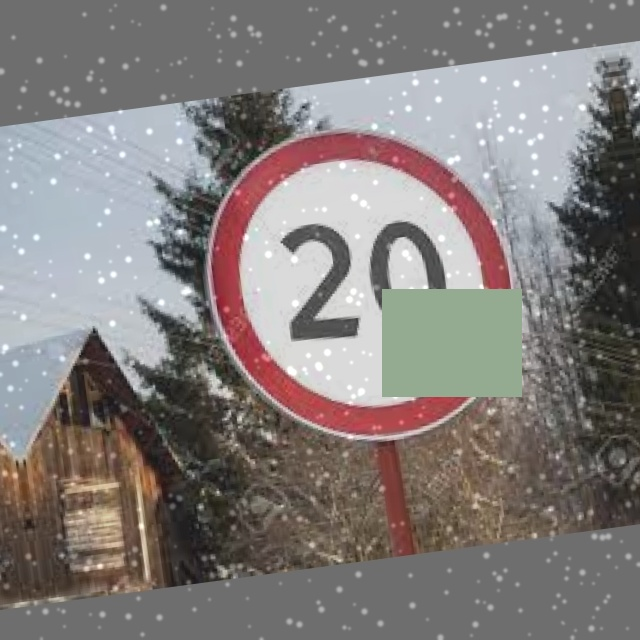Speed_Limit_20: (191, 109, 531, 455)
